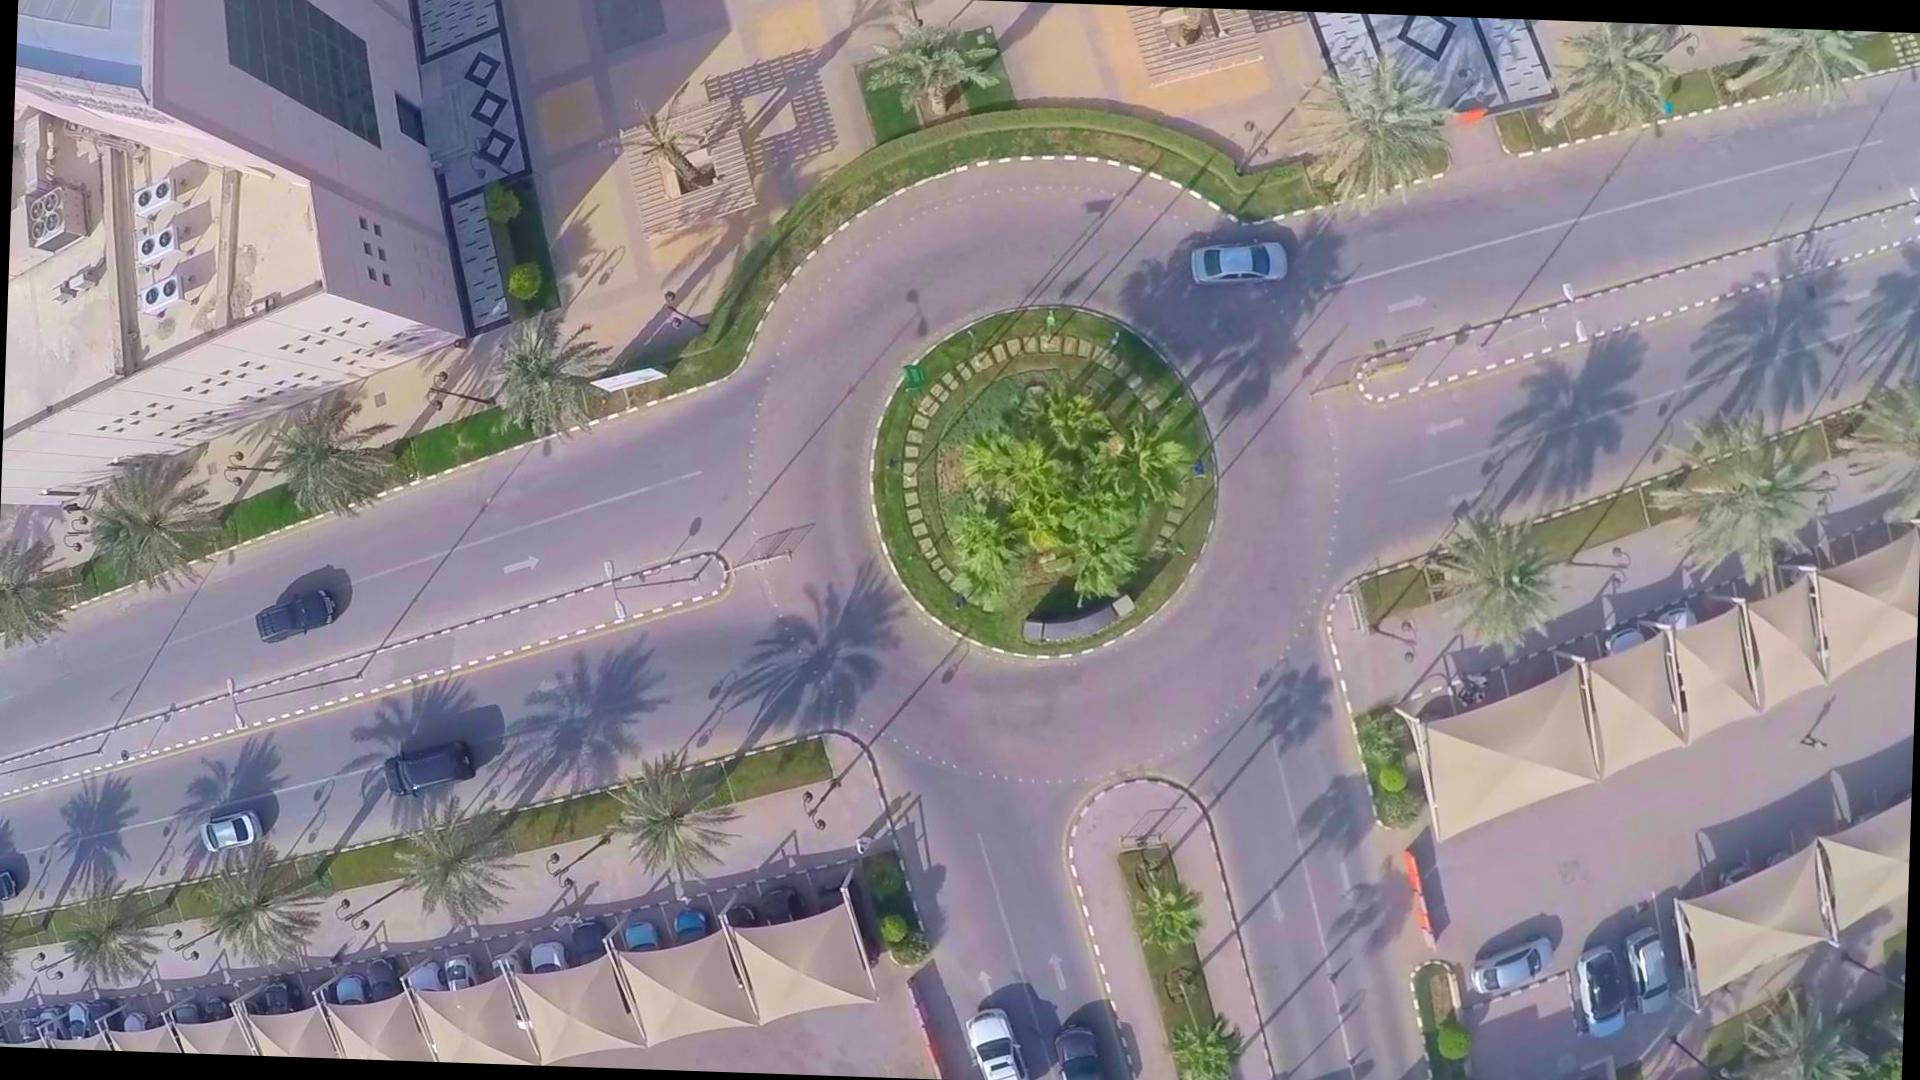vehicle: (1185, 228, 1294, 302), (249, 583, 357, 645), (389, 740, 483, 802), (964, 1002, 1009, 1079), (1054, 1025, 1106, 1079), (199, 812, 265, 853)
